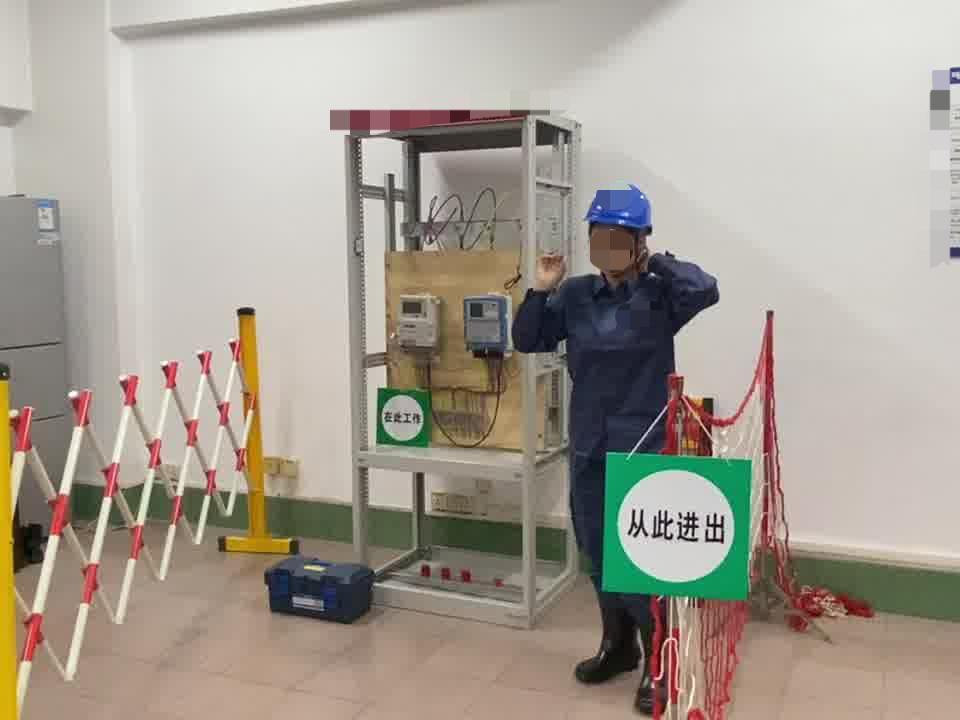halt: (584, 183, 658, 283)
